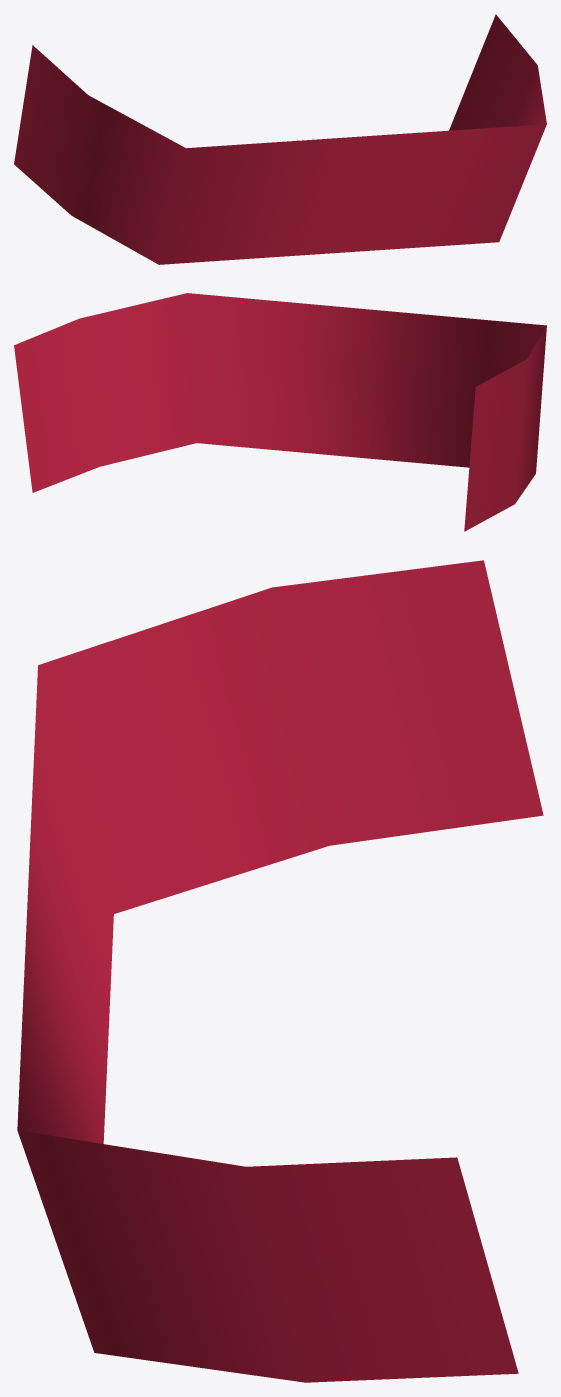
3 renders of one model, top to bottom at view 1: azimuth 30°, elevation 25°; view 2: azimuth 150°, elevation 25°; view 3: azimuth 270°, elevation 25°, orthographic. The views are drawn at different scales.
Visible parts, largest first — view 1: ef_435; view 2: ef_435; view 3: ef_435.
Boxes of the visible parts, x1,y1,x2,y2 form: ef_435: [14, 14, 546, 264]; ef_435: [14, 293, 546, 531]; ef_435: [17, 560, 543, 1382].
Size of the model in its own units: 0.8771 by 0.3935 by 0.4343.
Materials: 1 (1 with a texture image).
